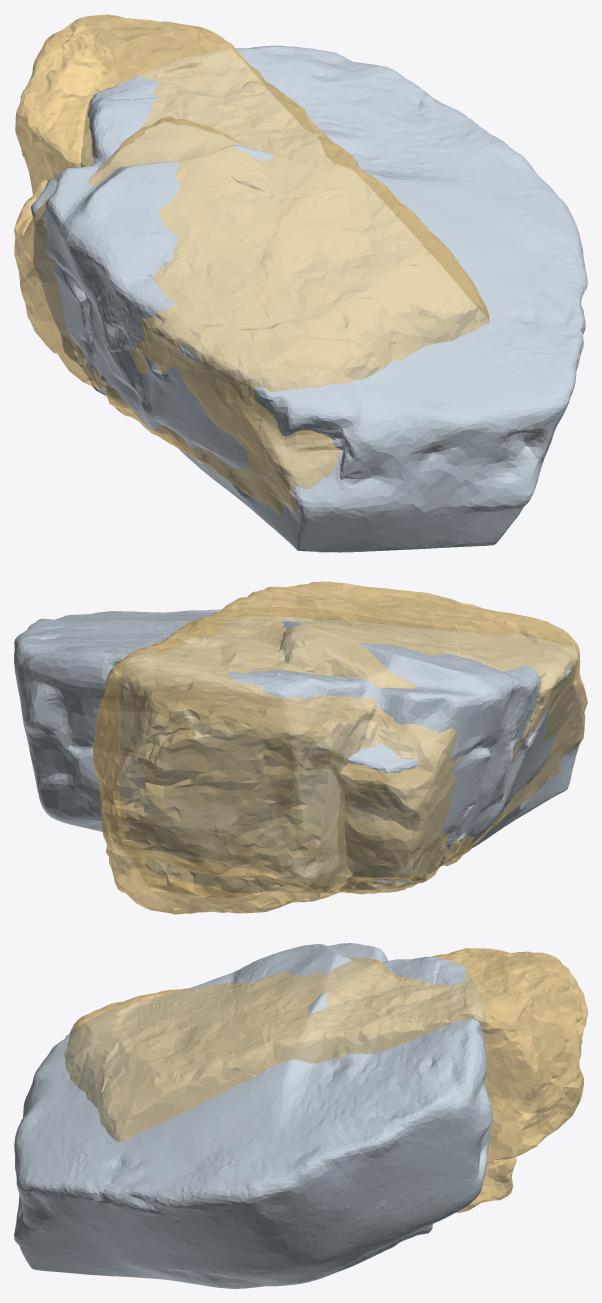
The picture shows the model from 3 angles, top to bottom: view 1: azimuth 30°, elevation 25°; view 2: azimuth 150°, elevation 25°; view 3: azimuth 270°, elevation 25°; orthographic projection. The views are drawn at different scales.
Visible parts, largest first — view 1: imagination, truth; view 2: imagination, truth; view 3: imagination, truth.
Boxes of the visible parts, x1,y1,x2,y2 form: imagination: (31,45,587,552); truth: (14,14,489,515); imagination: (14,607,583,897); truth: (93,581,587,914); imagination: (14,943,492,1288); truth: (64,948,587,1212).
Size of the model in its own units: 1.04 by 0.6714 by 1.31.
